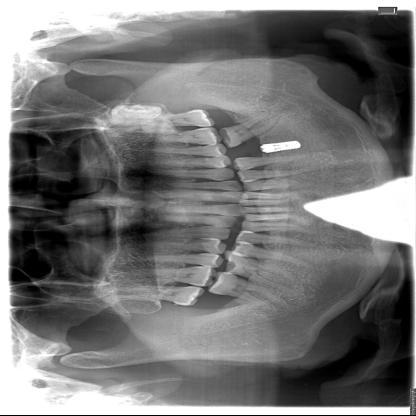ITI: (254, 140, 303, 156)
